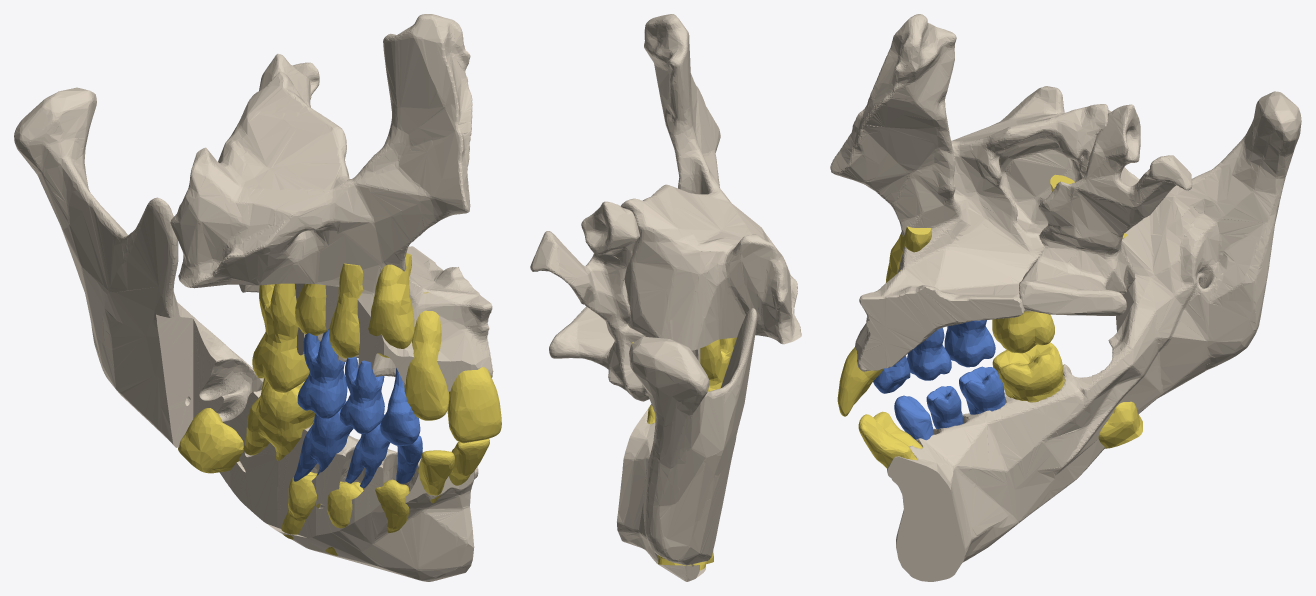
File: age-8-5.glb
The picture shows the model from 3 angles, left to right: view 1: azimuth 30°, elevation 25°; view 2: azimuth 150°, elevation 25°; view 3: azimuth 270°, elevation 25°; orthographic projection. The views are drawn at different scales.
Visible parts, largest first — view 1: upper-bone, lower-bone, upper-adult-teeth, lower-adult-teeth, upper-baby-teeth, lower-baby-teeth; view 2: upper-bone, lower-bone, upper-adult-teeth, lower-adult-teeth; view 3: upper-bone, lower-bone, lower-adult-teeth, upper-adult-teeth, upper-baby-teeth, lower-baby-teeth.
Boxes of the visible parts, left/top/right/bottom form: upper-bone: left=170, top=14, right=493, bottom=391; lower-bone: left=14, top=87, right=478, bottom=581; upper-adult-teeth: left=252, top=253, right=501, bottom=443; lower-adult-teeth: left=178, top=378, right=489, bottom=555; upper-baby-teeth: left=297, top=329, right=420, bottom=445; lower-baby-teeth: left=293, top=401, right=422, bottom=488; upper-bone: left=530, top=14, right=801, bottom=401; lower-bone: left=617, top=308, right=757, bottom=581; upper-adult-teeth: left=632, top=337, right=736, bottom=391; lower-adult-teeth: left=647, top=404, right=713, bottom=570; upper-bone: left=830, top=14, right=1192, bottom=371; lower-bone: left=887, top=91, right=1301, bottom=581; lower-adult-teeth: left=858, top=342, right=1142, bottom=468; upper-adult-teeth: left=837, top=174, right=1127, bottom=416; upper-baby-teeth: left=873, top=320, right=995, bottom=393; lower-baby-teeth: left=894, top=366, right=1005, bottom=440.
Size of the model in its own units: 0.0517 by 0.1088 by 0.0841.
